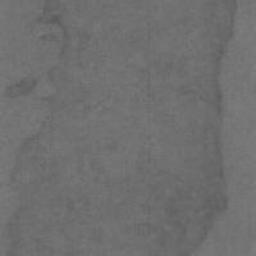Water spot: (3, 0, 238, 256), (5, 77, 38, 99)
